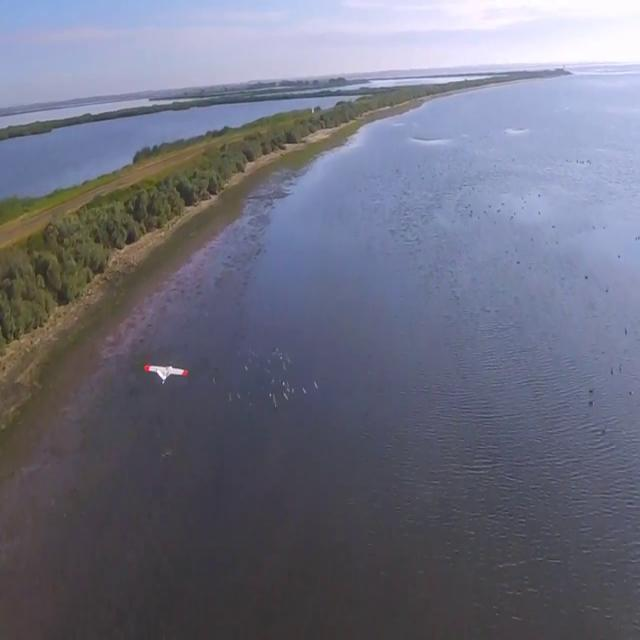iha: (143, 356, 189, 386)
